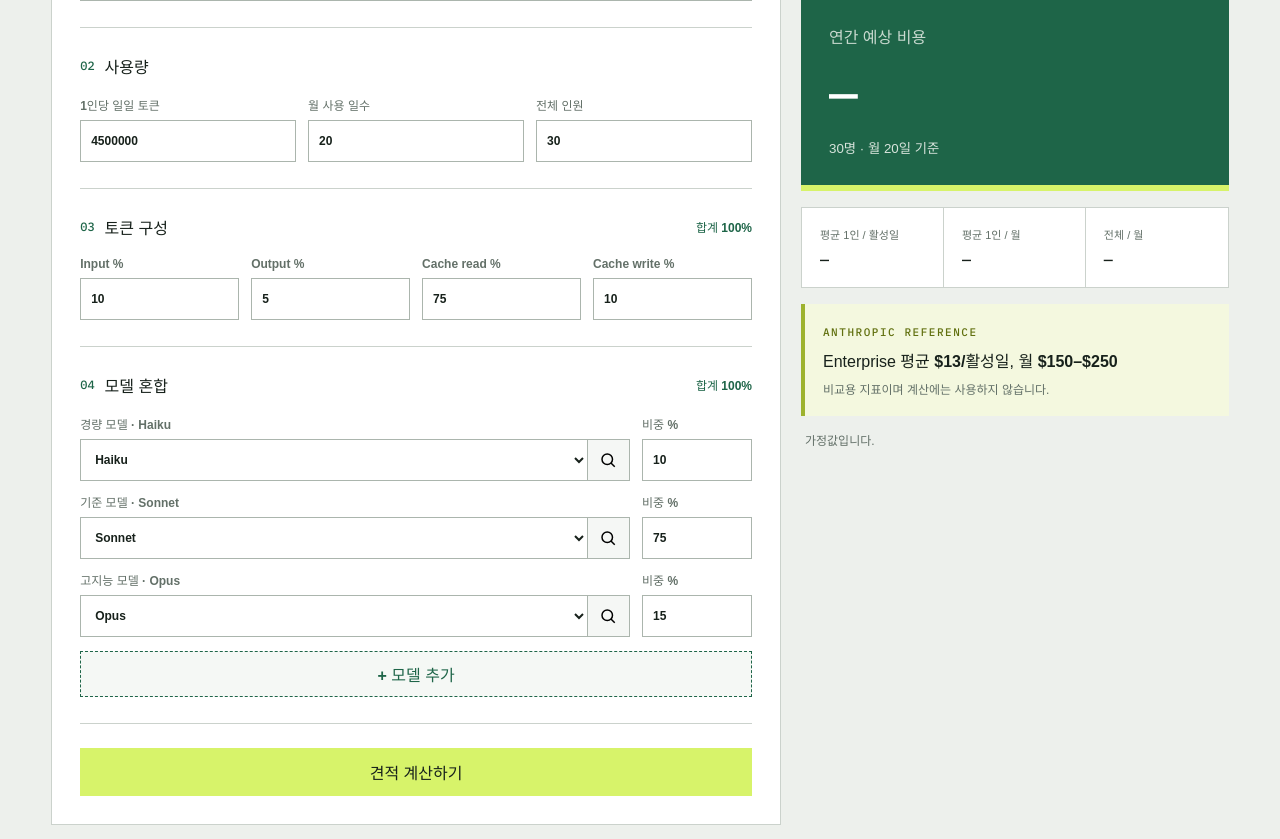
App › adds an optional model row from the collapsed control
This screenshot has width=1280, height=839.
(page scrolled)
Click the button with class "add-model". click: click(416, 674)
box: [80,651,752,697]
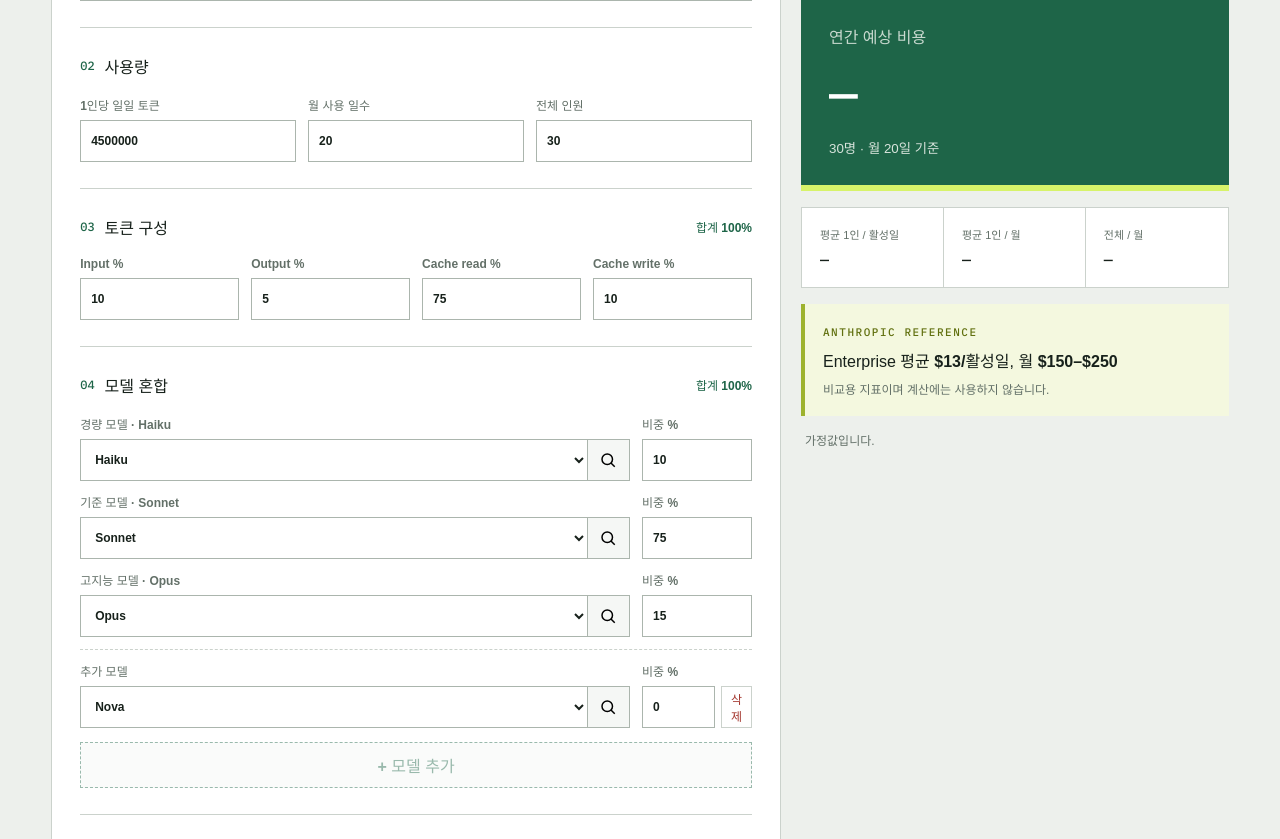
Expected: the number of elements with class "extra-model" is 1, [80,649,752,728]
Expected: the text "추가 모델" is shown, [80,662,630,728]
